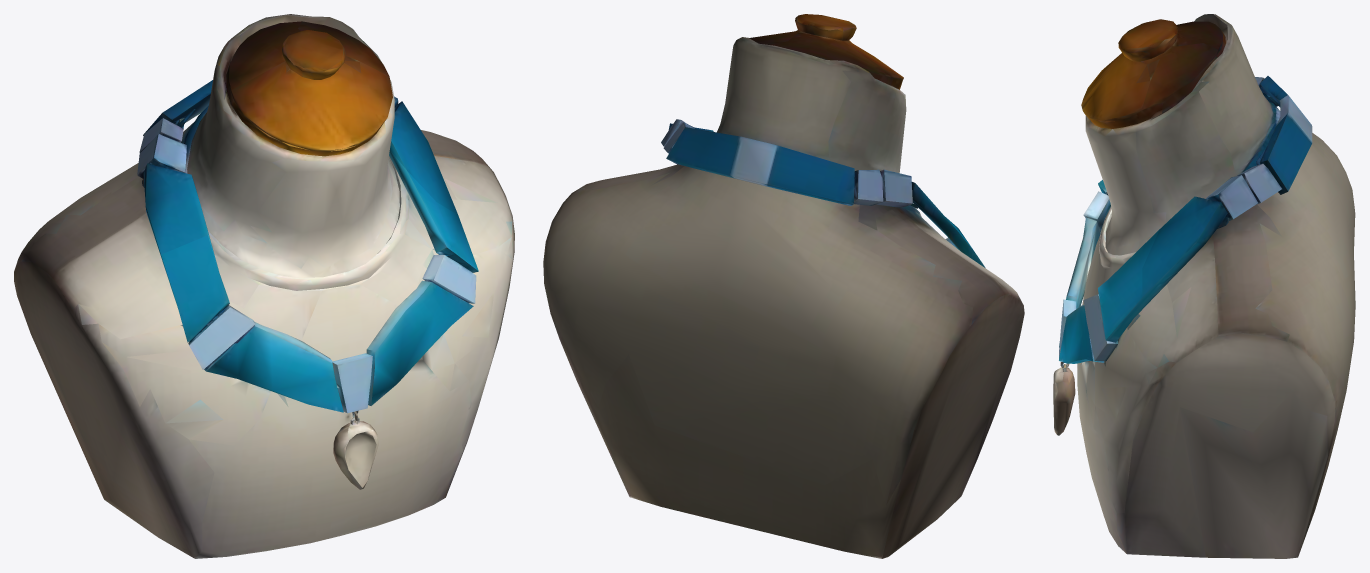
Rendered from collier_poca.glb.
The picture shows the model from 3 angles, left to right: view 1: azimuth 30°, elevation 25°; view 2: azimuth 150°, elevation 25°; view 3: azimuth 270°, elevation 25°; orthographic projection. The views are drawn at different scales.
Visible parts, largest first — view 1: LOD0; view 2: LOD0; view 3: LOD0.
Part boxes in pixels (left/top/right/bottom): LOD0: left=14, top=14, right=514, bottom=558; LOD0: left=543, top=14, right=1024, bottom=558; LOD0: left=1053, top=14, right=1355, bottom=558.
Size of what is drawn, in the model's own units: 0.958 by 0.9945 by 0.58.
Materials: 1 (1 with a texture image).
